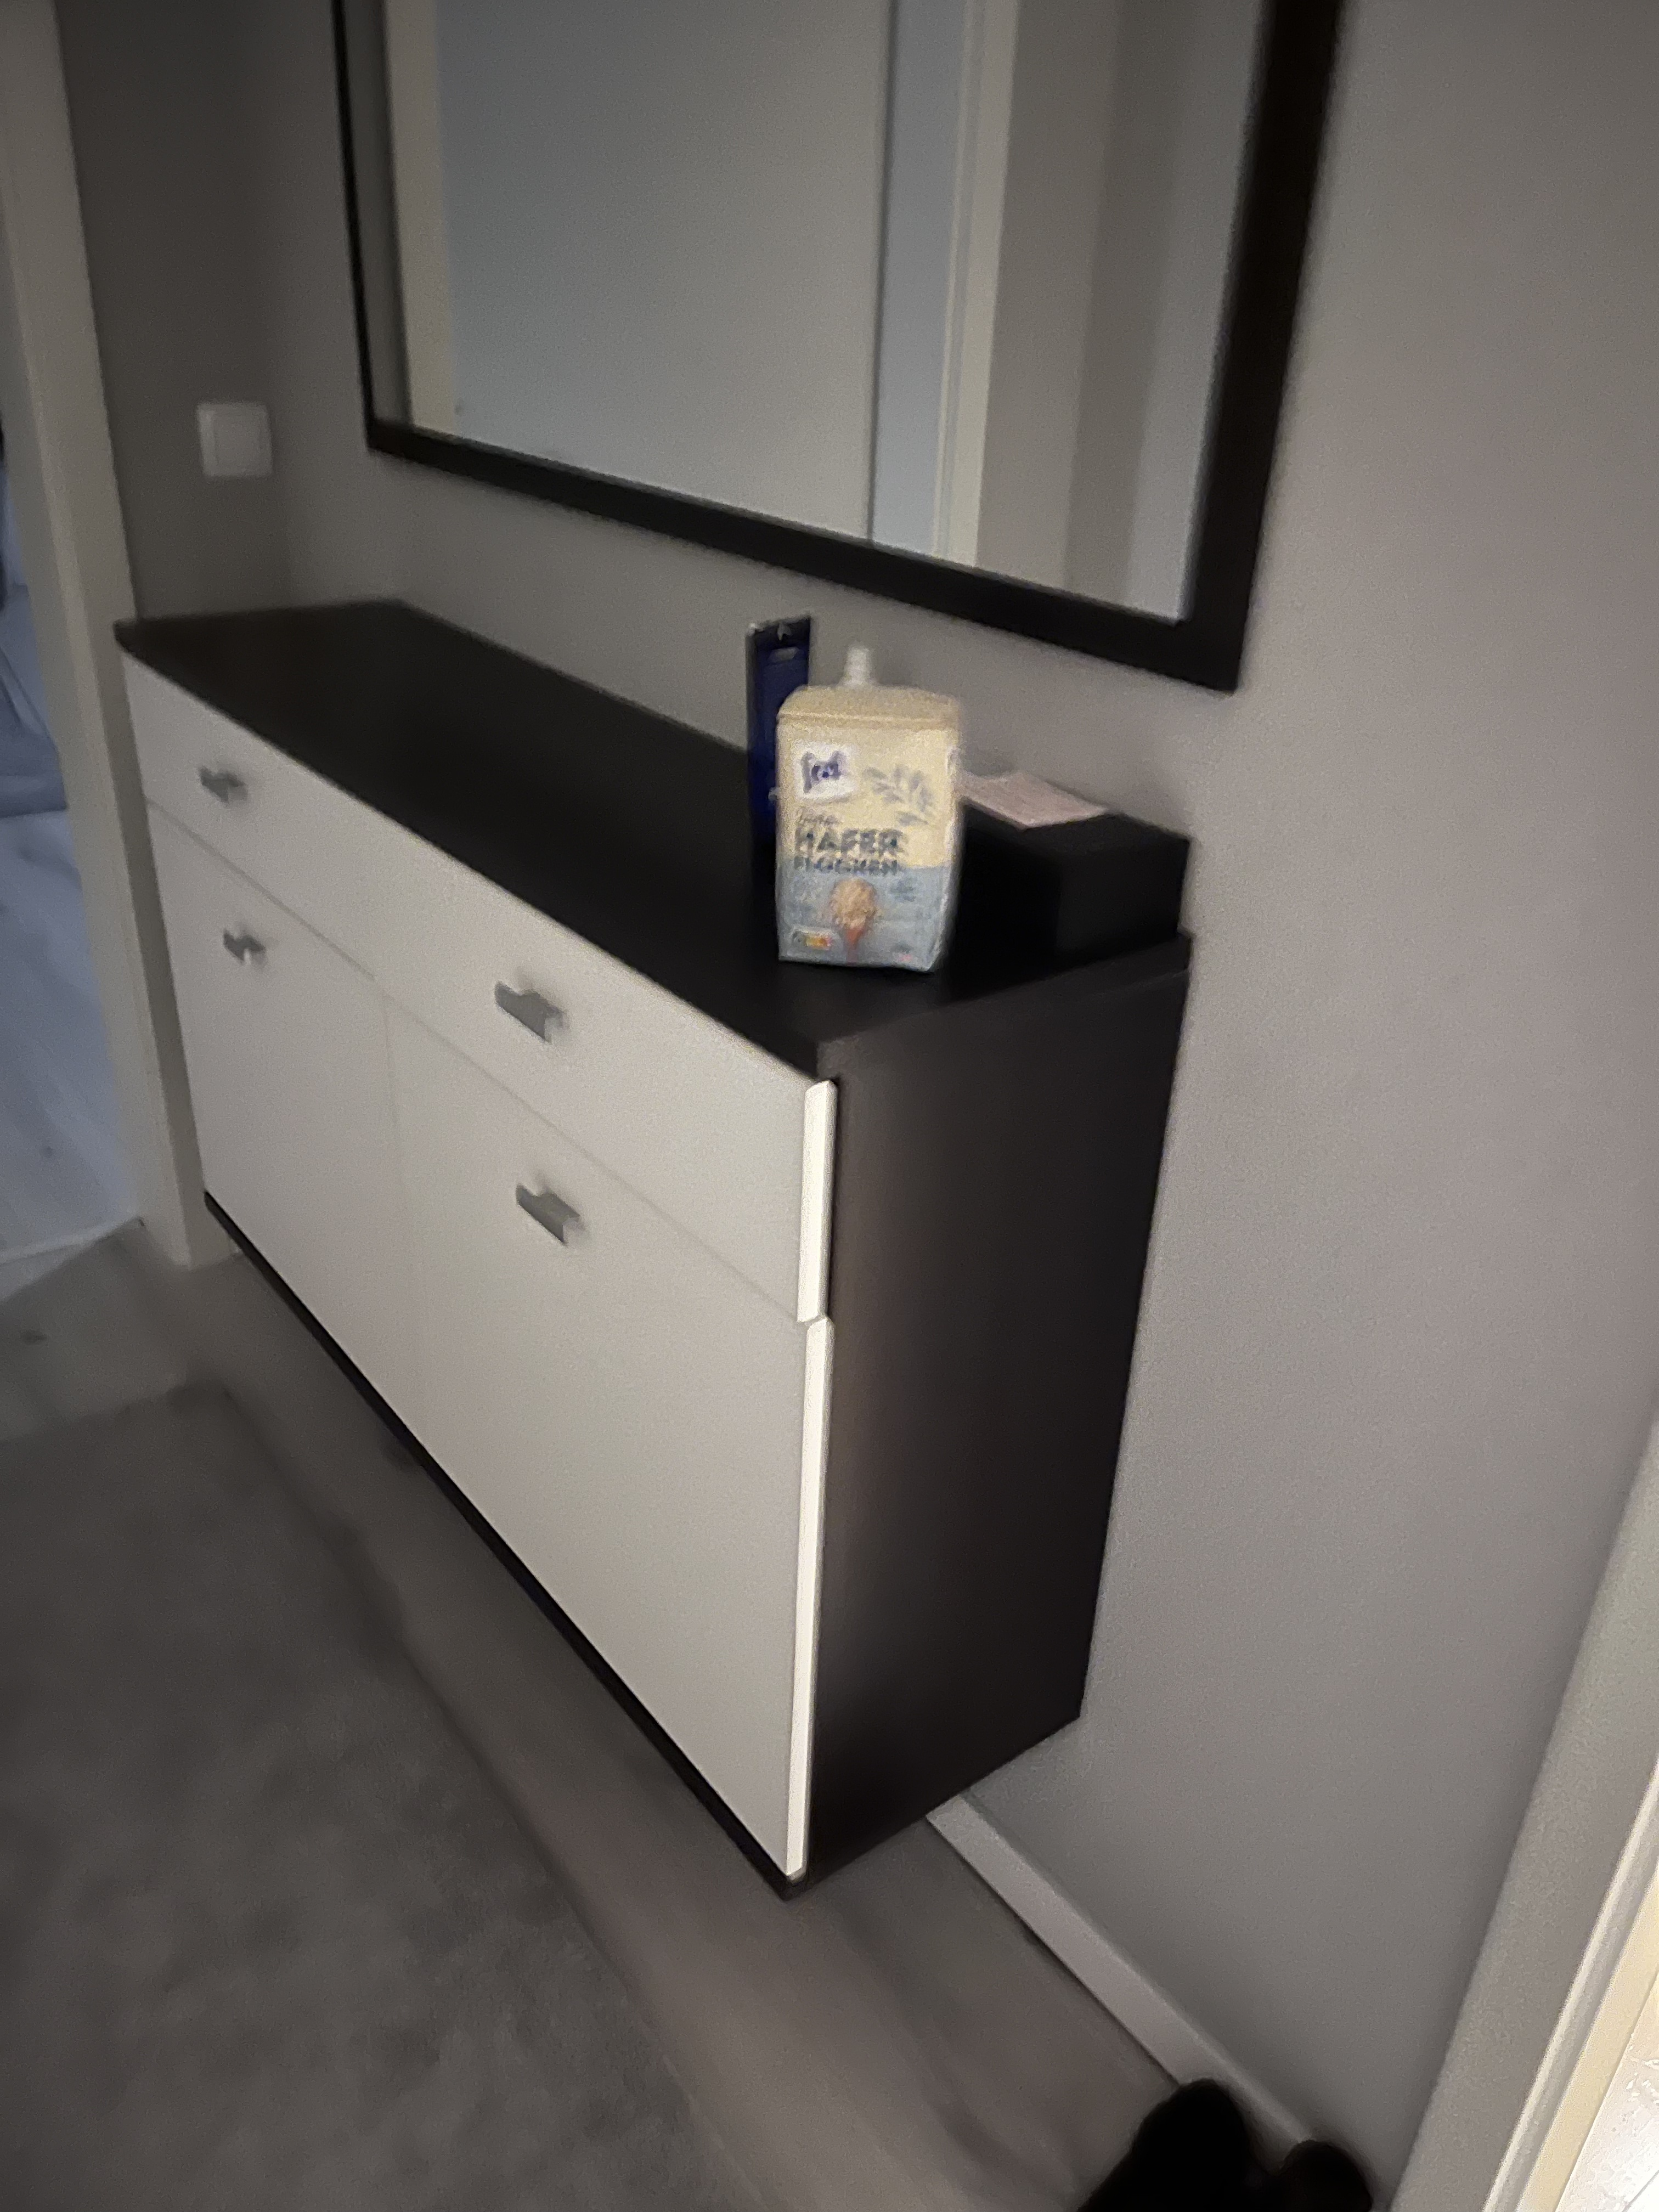haferflocken_ja: (774, 686, 960, 977)
